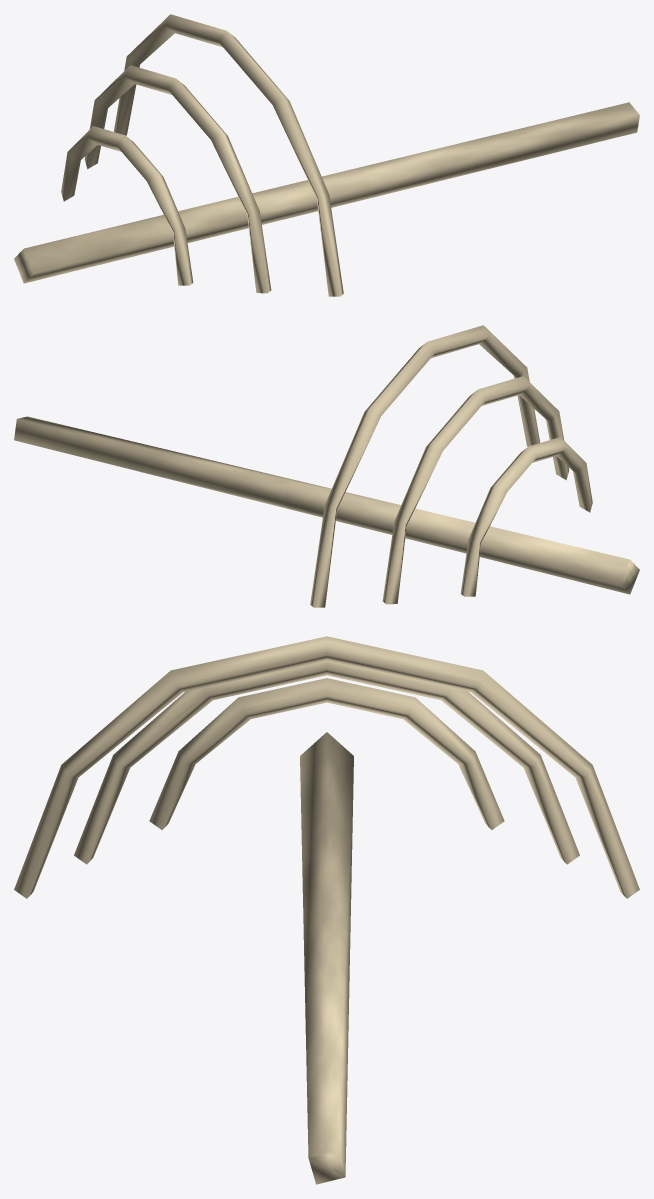
The model's file is Bones_Scatter_2_LOD2.gltf.
The picture shows the model from 3 angles, top to bottom: view 1: azimuth 30°, elevation 25°; view 2: azimuth 150°, elevation 25°; view 3: azimuth 270°, elevation 25°; orthographic projection. The views are drawn at different scales.
Visible parts, largest first — view 1: Bones_Scatter_2_LOD2; view 2: Bones_Scatter_2_LOD2; view 3: Bones_Scatter_2_LOD2.
Boxes of the visible parts, box(x1,y1,x2,y2) form: Bones_Scatter_2_LOD2: box(14, 14, 639, 296); Bones_Scatter_2_LOD2: box(14, 325, 639, 607); Bones_Scatter_2_LOD2: box(14, 636, 639, 1184).
Size of the model in its own units: 1.8 by 0.5735 by 1.16.
Materials: 1 (1 with a texture image).
